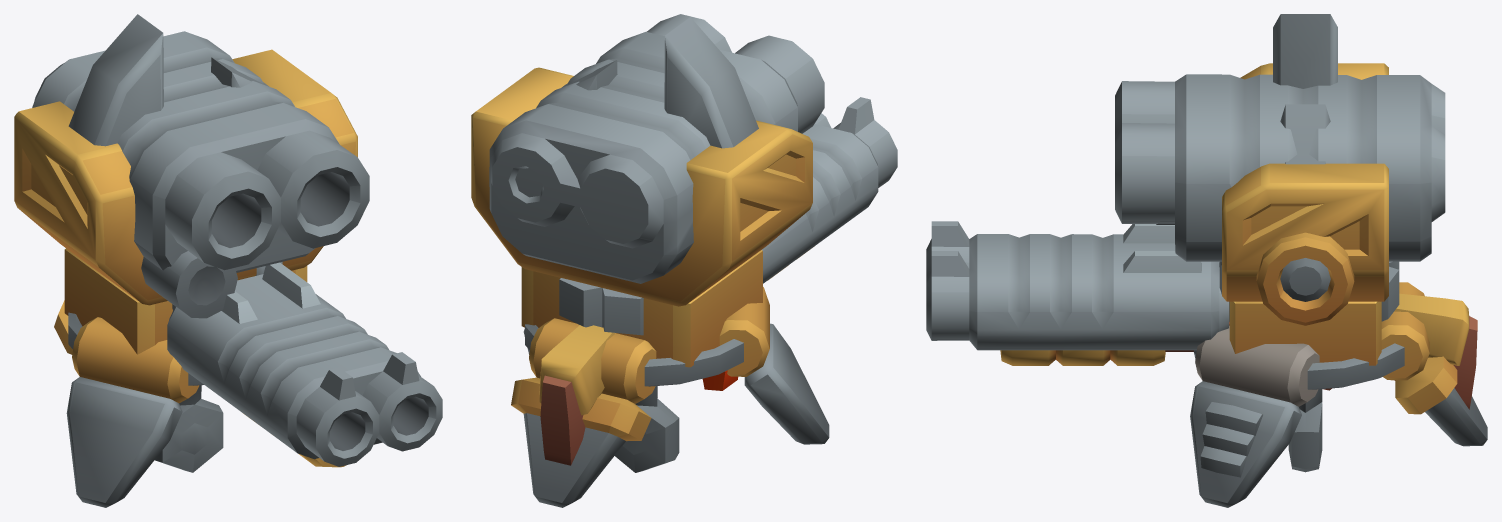
3 renders of one model, left to right at view 1: azimuth 30°, elevation 25°; view 2: azimuth 150°, elevation 25°; view 3: azimuth 270°, elevation 25°, orthographic. The views are drawn at different scales.
Visible parts, largest first — view 1: turret_gun, shotgun, turret_footC, engineer_Wrench, ammo_crate, turret_footB; view 2: turret_gun, shotgun, turret_footB, engineer_Wrench, ammo_crate, turret_footC, turret_base; view 3: turret_gun, shotgun, turret_footA, engineer_Wrench, turret_footB, ammo_crate, turret_base.
Boxes of the visible parts, x1,y1,x2,y2 form: turret_gun: (14, 31, 369, 318); shotgun: (167, 262, 442, 467); turret_footC: (66, 317, 199, 507); engineer_Wrench: (68, 14, 268, 472); ammo_crate: (64, 248, 307, 354); turret_footB: (54, 300, 72, 354); turret_gun: (471, 14, 824, 306); shotgun: (539, 97, 897, 465); turret_footB: (511, 318, 656, 507); engineer_Wrench: (562, 17, 758, 472); ammo_crate: (521, 250, 762, 367); turret_footC: (719, 287, 829, 444); turret_base: (525, 278, 743, 386); turret_gun: (1115, 63, 1445, 325); shotgun: (926, 221, 1477, 409); turret_footA: (1190, 325, 1319, 507); engineer_Wrench: (1273, 14, 1337, 472); turret_footB: (1381, 282, 1487, 446); ammo_crate: (1219, 261, 1381, 365); turret_base: (1193, 261, 1404, 389).
Bounding box in the file's own units: 0.9998 × 1.47 × 1.7.
Materials: 2 (2 with a texture image).
